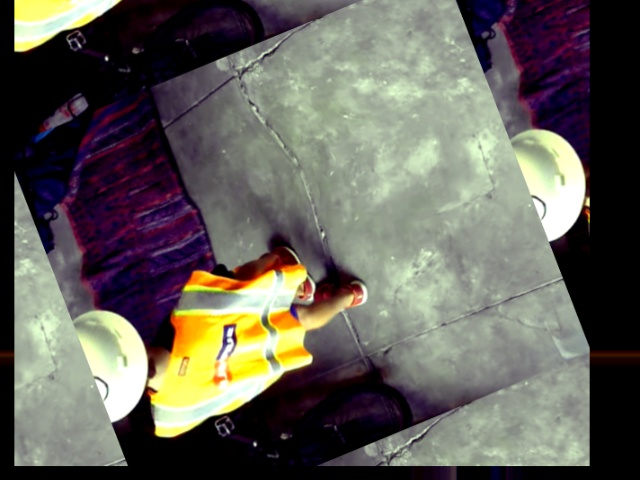three: (59, 371, 110, 414)
